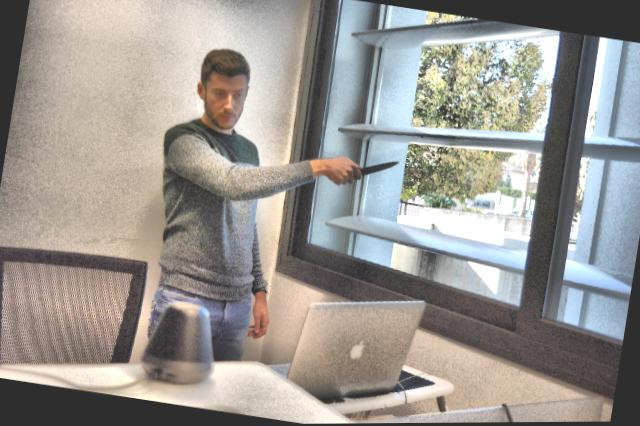knife: (350, 154, 402, 186)
